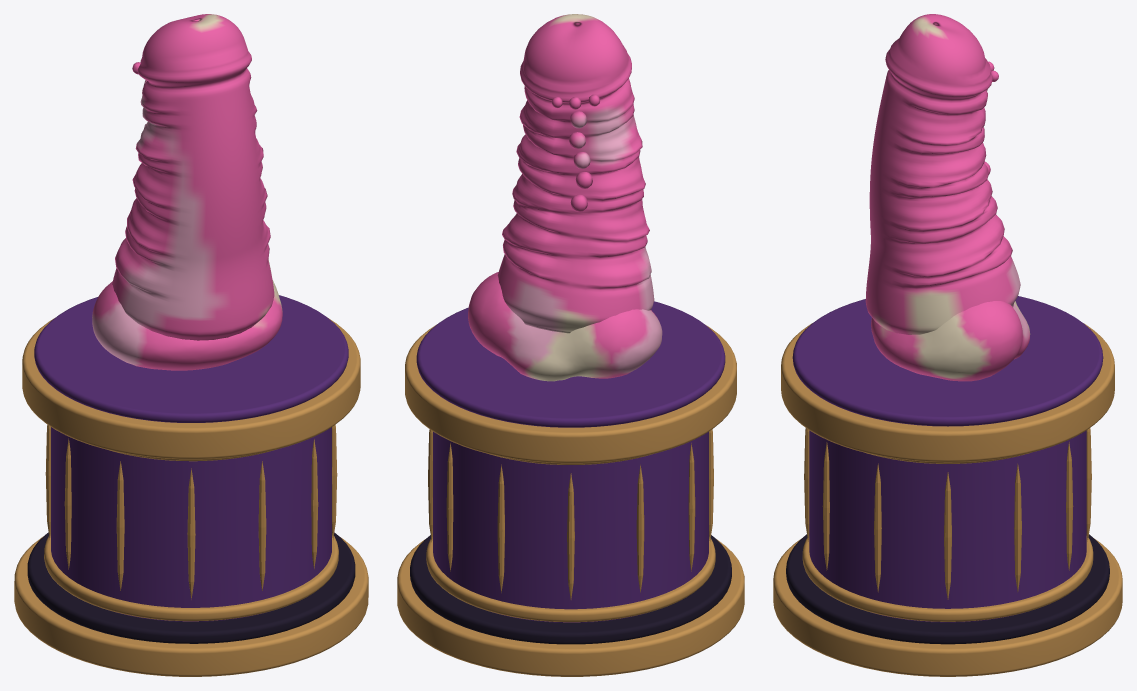
Rendered from rook.glb.
3 views of the same model, side by side, from view 1: azimuth 30°, elevation 25°; view 2: azimuth 150°, elevation 25°; view 3: azimuth 270°, elevation 25° (orthographic).
Parts seen in each view (by area): view 1: casino_pedestal, rook_original_rook; view 2: casino_pedestal, rook_original_rook; view 3: casino_pedestal, rook_original_rook.
Part boxes in pixels (x1,y1,x2,y2): casino_pedestal: [14, 295, 368, 676]; rook_original_rook: [92, 14, 282, 370]; casino_pedestal: [397, 301, 744, 676]; rook_original_rook: [468, 14, 662, 381]; casino_pedestal: [773, 296, 1122, 676]; rook_original_rook: [865, 14, 1030, 381].
Bounding box in the file's own units: 0.68 × 1.25 × 0.68.
